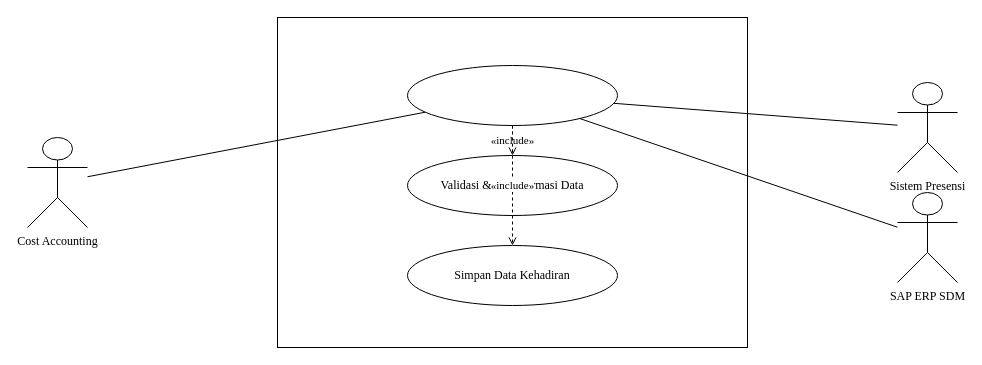
The diagram is 982 pixels wide and 365 high, and some of its shapes have lost their labels. The box of each missing label's shape, as (x1, y1, x2, y2) in pixels:
Modul Integrasi Sistem Presensi: (276, 16, 748, 348)
Tarik Data Presensi: (406, 64, 618, 126)
